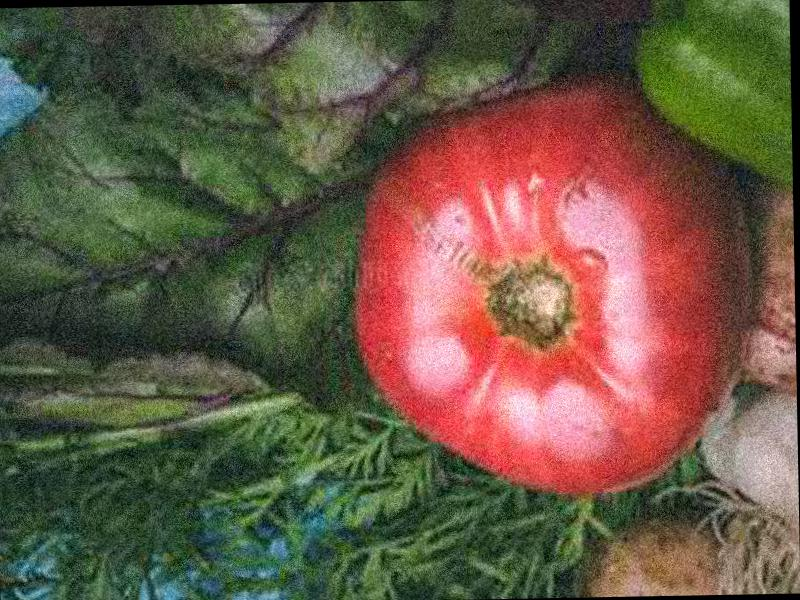Tomato: (352, 69, 761, 499)
